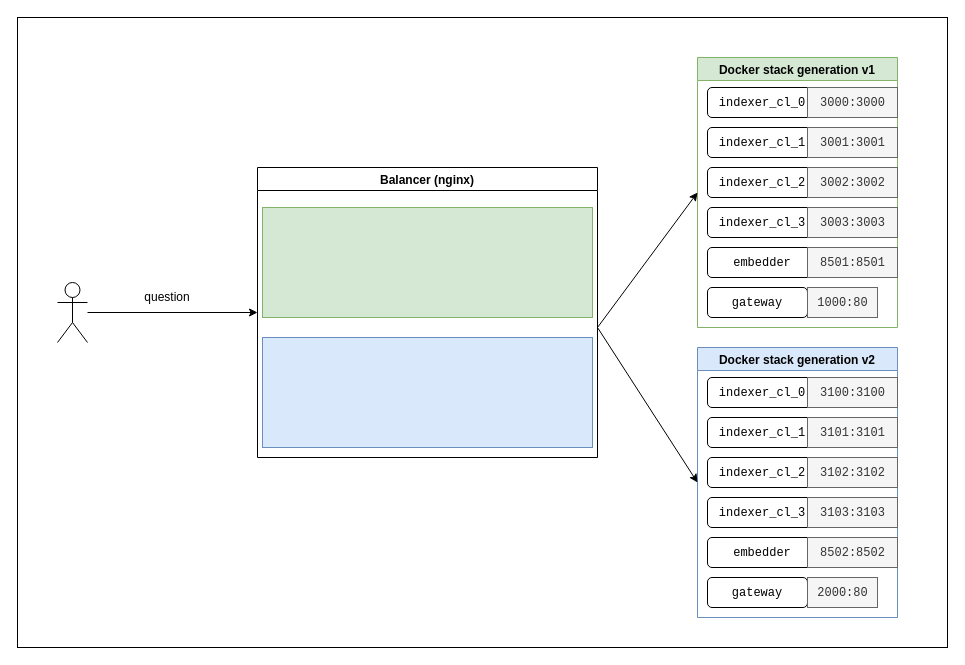
Some shapes in this 965 by 665 pixel diagram are drawn without their labels. The shapes that lost their labels are listed below. From the top down, each one's centre as x and y in pixels, then its label:
At (x=427, y=262): "server { listen 80; location / { proxy_pass http://localhost:1000; } }".
At (x=72, y=312): "Client".
At (x=427, y=392): "server { listen 80; location / { proxy_pass http://localhost:2000; } }".
